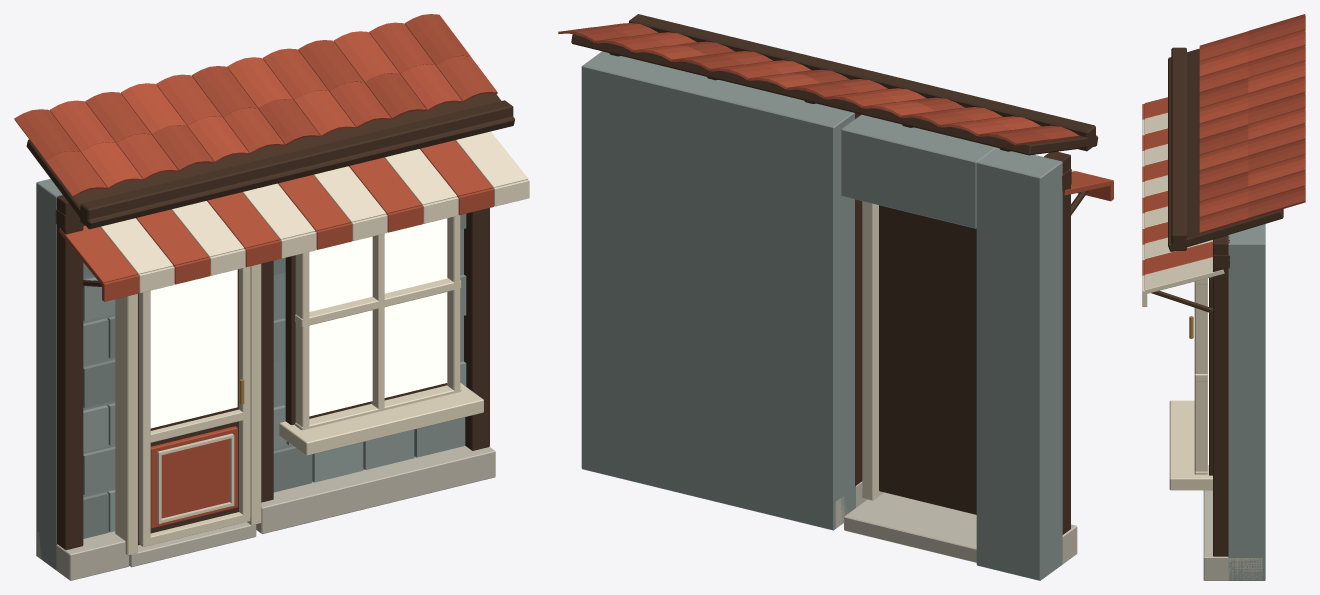
The model's file is SM_Wall_Door_L1.glb.
3 views of the same model, side by side, from view 1: azimuth 30°, elevation 25°; view 2: azimuth 150°, elevation 25°; view 3: azimuth 270°, elevation 25° (orthographic). The views are drawn at different scales.
Visible parts, largest first — view 1: SM_Wall_Door_Static, SM_DoorLeaf; view 2: SM_Wall_Door_Static, SM_DoorLeaf; view 3: SM_Wall_Door_Static.
Boxes of the visible parts, left/top/right/bottom form: SM_Wall_Door_Static: left=14, top=14, right=529, bottom=580; SM_DoorLeaf: left=138, top=266, right=250, bottom=546; SM_Wall_Door_Static: left=558, top=14, right=1113, bottom=580; SM_DoorLeaf: left=879, top=205, right=976, bottom=514; SM_Wall_Door_Static: left=1142, top=14, right=1305, bottom=580.
Bounding box in the file's own units: 4 × 3.82 × 1.47.
